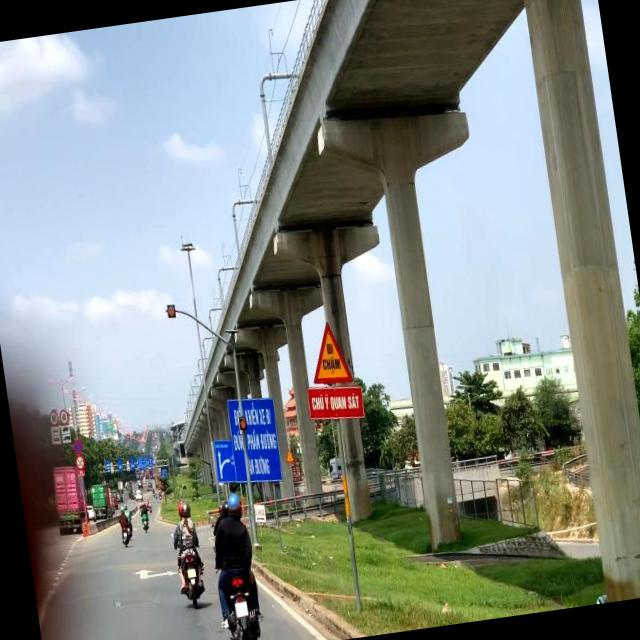W-245a: (305, 320, 355, 387)
